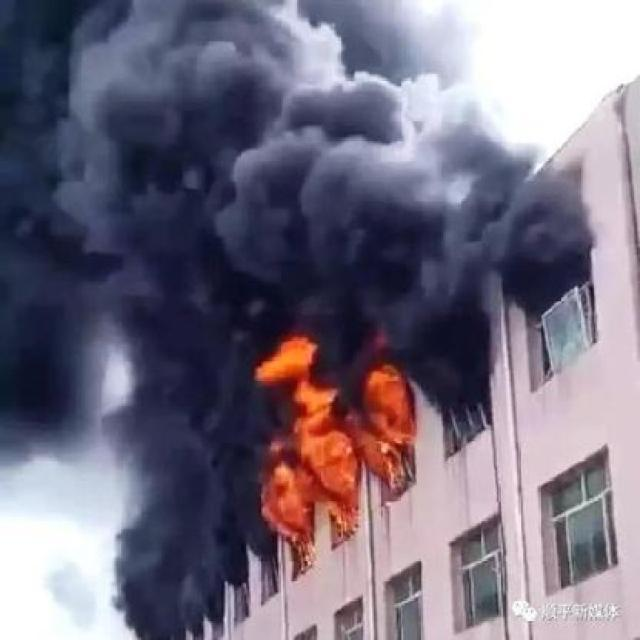Fire: (248, 326, 422, 558)
Smoke: (7, 2, 590, 310), (8, 318, 246, 640)
